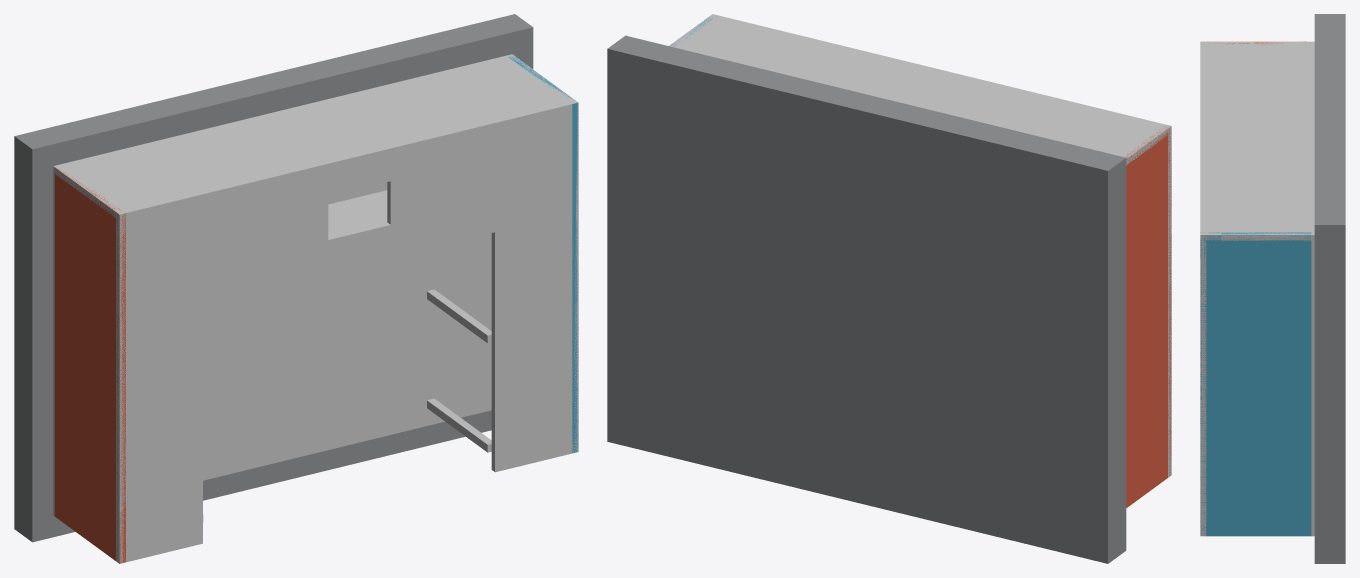
Rendered from earth-pavilion.gltf.
3 views of the same model, side by side, from view 1: azimuth 30°, elevation 25°; view 2: azimuth 150°, elevation 25°; view 3: azimuth 270°, elevation 25° (orthographic). The views are drawn at different scales.
Size of the model in its own units: 24 by 18 by 7.
